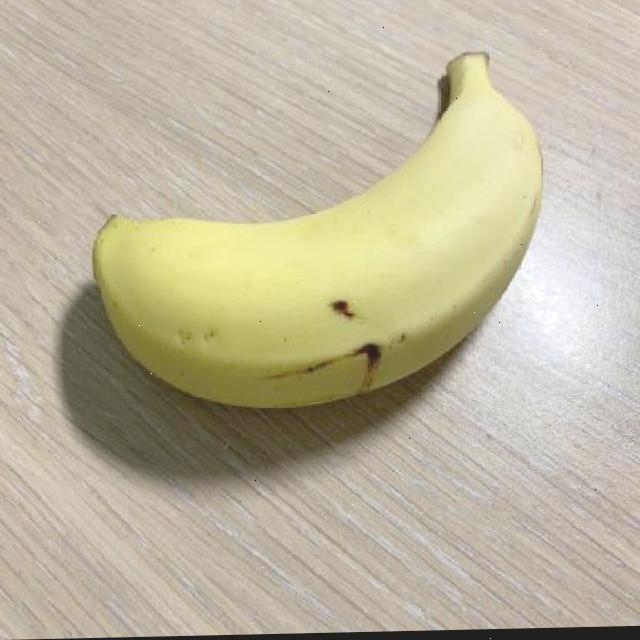banana: (84, 41, 546, 420)
